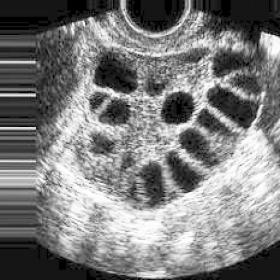PCOS: (92, 48, 142, 97), (206, 84, 259, 130), (168, 148, 206, 196), (208, 46, 258, 78), (180, 126, 215, 171), (136, 160, 168, 208), (198, 106, 238, 142), (160, 89, 194, 127), (99, 96, 132, 126), (231, 70, 263, 96), (91, 130, 115, 157), (145, 75, 166, 98), (88, 89, 109, 110)
